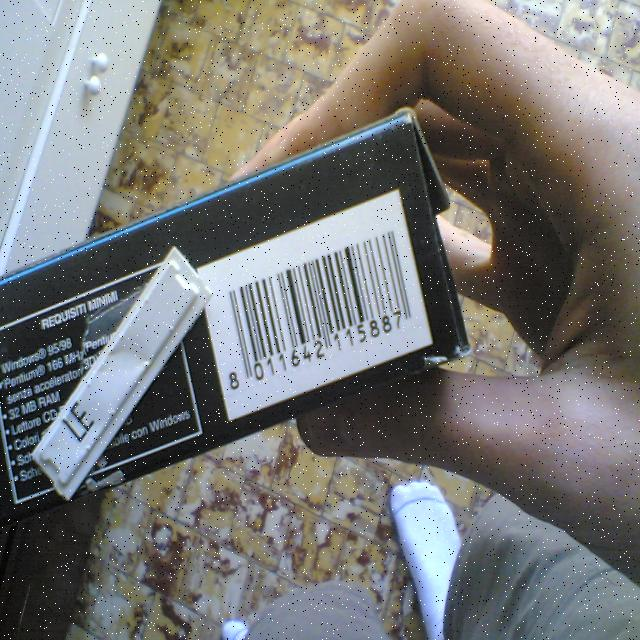barcode: (199, 190, 432, 420)
